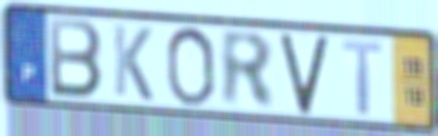B: (46, 14, 105, 102)
K: (111, 22, 155, 104)
O: (164, 24, 217, 109)
R: (218, 27, 278, 113)
T: (340, 37, 385, 118)
V: (277, 32, 331, 117)
